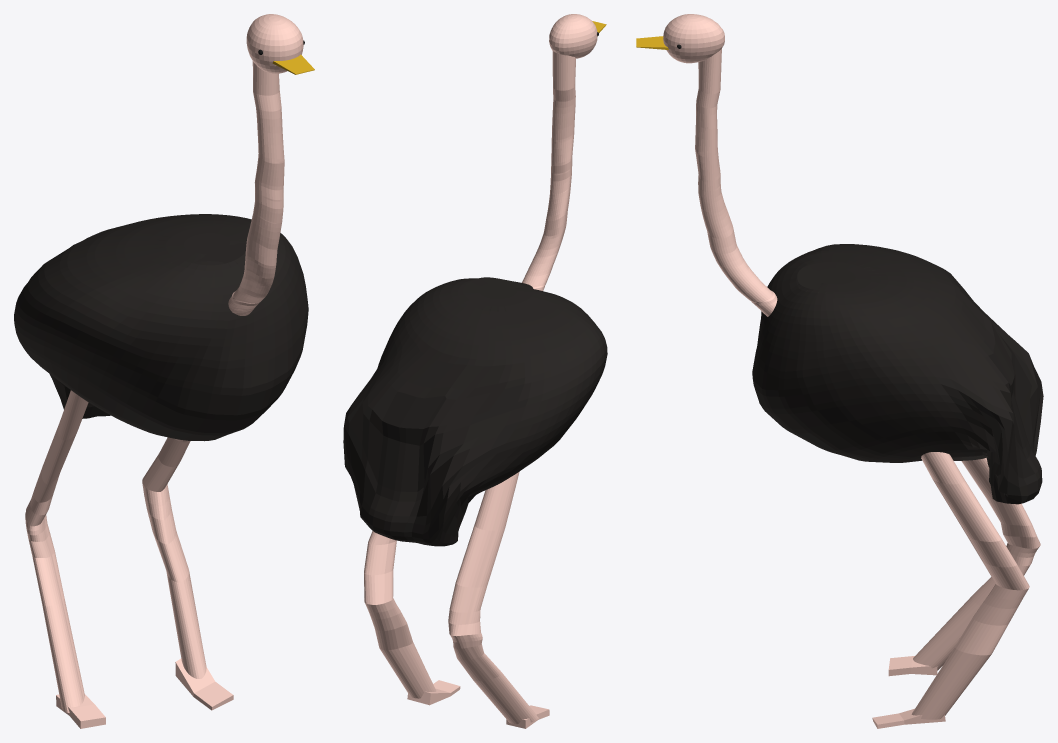
File: datyou.fbx
3 renders of one model, left to right at view 1: azimuth 30°, elevation 25°; view 2: azimuth 150°, elevation 25°; view 3: azimuth 270°, elevation 25°, orthographic. The views are drawn at different scales.
Visible parts, largest first — view 1: Cube; view 2: Cube; view 3: Cube.
Boxes of the visible parts, x1,y1,x2,y2 form: Cube: (14,14,314,728); Cube: (343,14,607,728); Cube: (636,14,1043,728).
Bounding box in the file's own units: 98.09 × 297 × 159.
